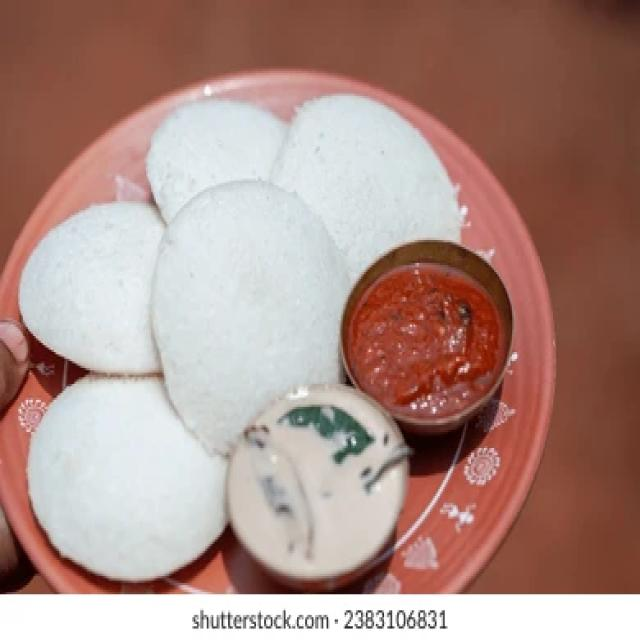IDLI: (150, 174, 346, 448), (20, 366, 235, 586), (268, 90, 462, 304), (16, 203, 171, 369), (143, 91, 284, 214)
